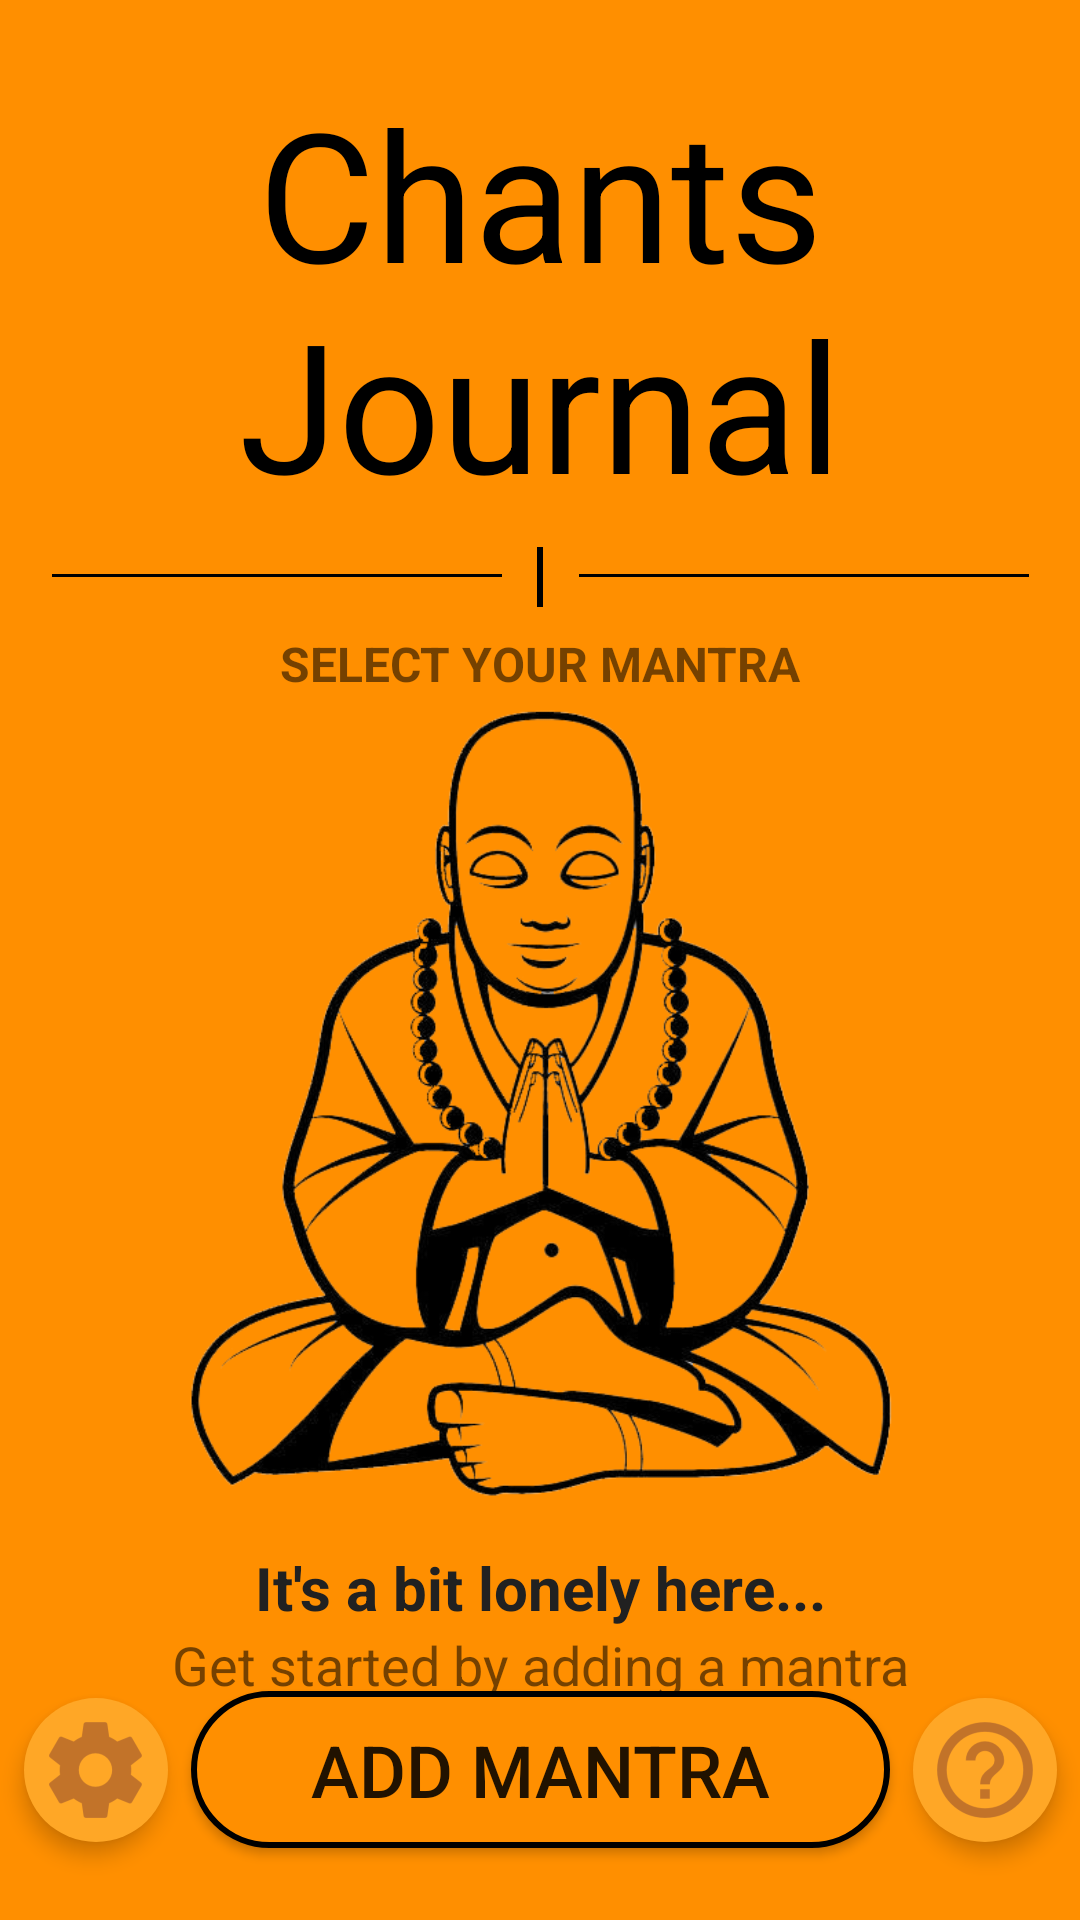

Named icons in this screenshot (1080px×1920px) and their bounding boxes, Rect(x1, y1, x2, y2):
gear: Rect(24, 1698, 168, 1842)
help: Rect(913, 1698, 1057, 1842)
